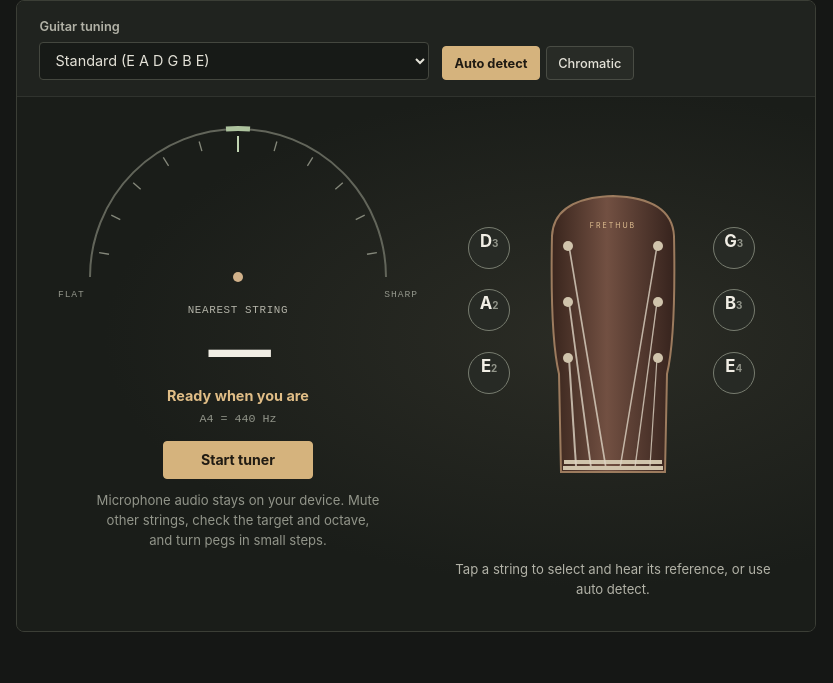
Scenario: tuner microphone flow › allows repeated reference pegs and waits for every overlapping sound before listening
Click the button named "Play E2 reference, string 6": (489, 373) [468,352,510,394]
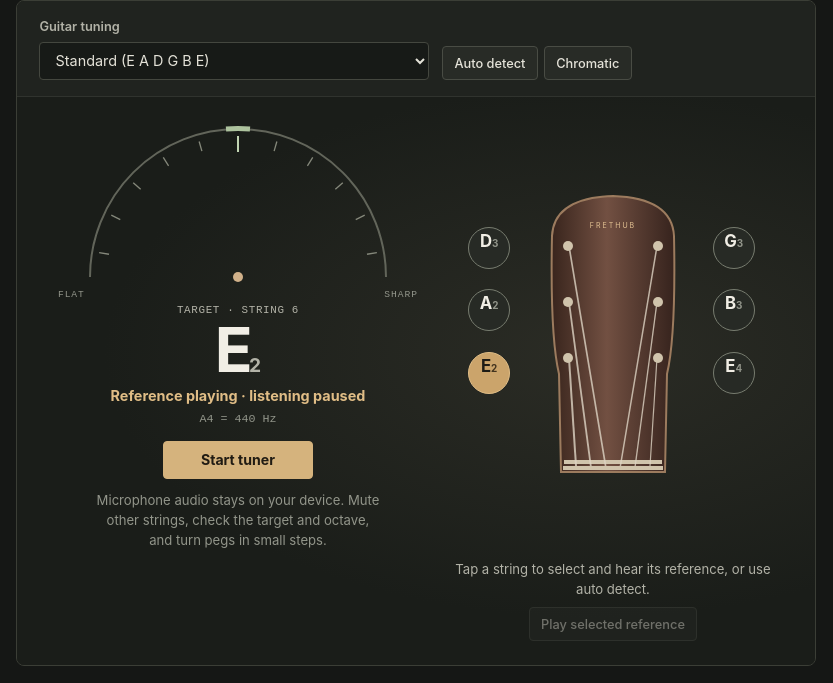
Click the button named "Play A2 reference, string 5": (489, 310) [468,289,510,331]
Wait 720 ms
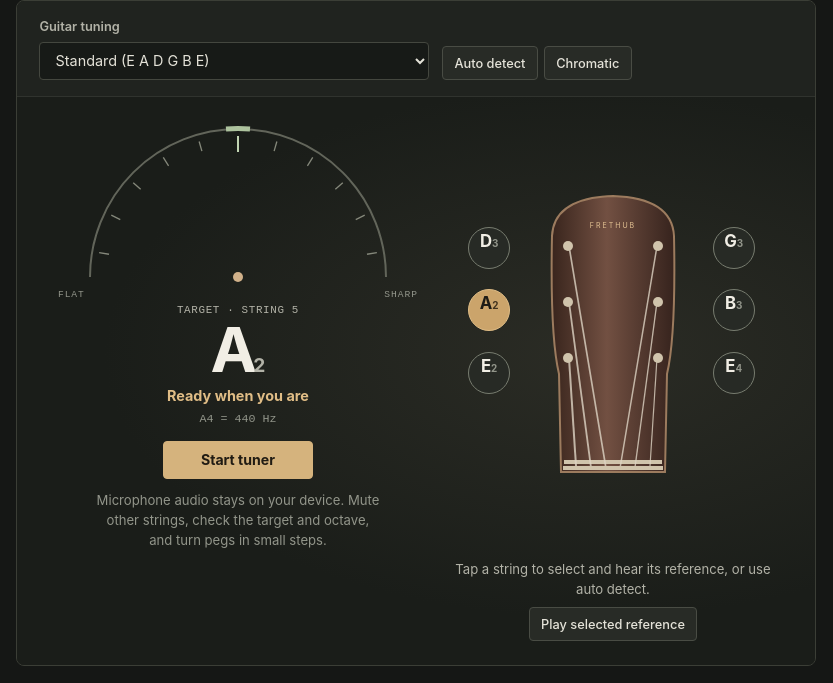
Expected: the text "Reference playing · listening paused" is shown, [167,385,309,407]
Expected: the text "Reference playing · listening paused" is gone
